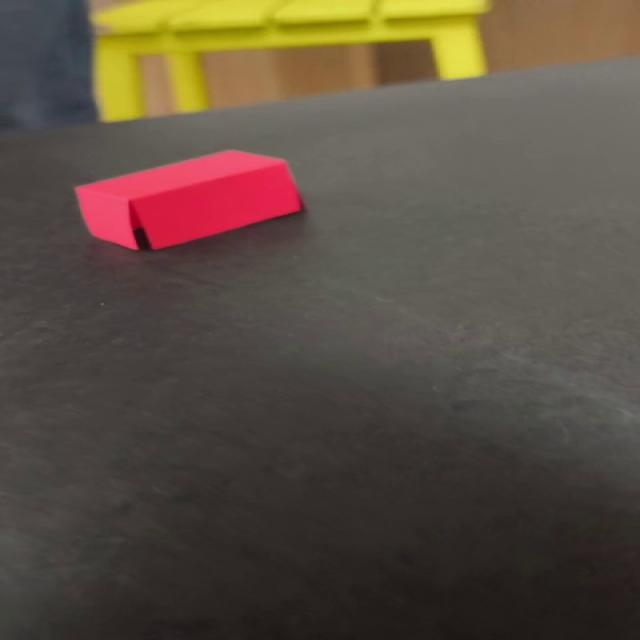red block: (73, 148, 304, 251)
